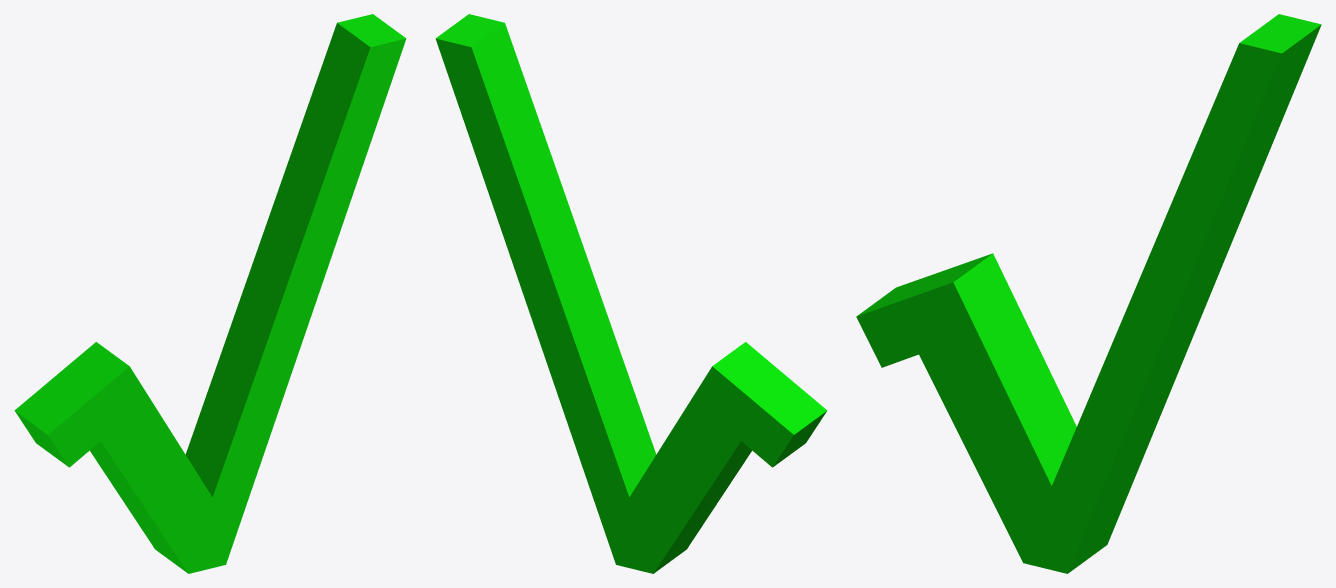
Rendered from CheckMark.gltf.
The picture shows the model from 3 angles, left to right: view 1: azimuth 30°, elevation 25°; view 2: azimuth 150°, elevation 25°; view 3: azimuth 330°, elevation 25°; orthographic projection. The views are drawn at different scales.
Visible parts, largest first — view 1: typeMesh1; view 2: typeMesh1; view 3: typeMesh1.
Part boxes in pixels (x1,y1,x2,y2): typeMesh1: [14, 14, 406, 573]; typeMesh1: [435, 14, 827, 573]; typeMesh1: [856, 14, 1321, 573].
Bounding box in the file's own units: 0.051 × 0.0656 × 0.00825.
